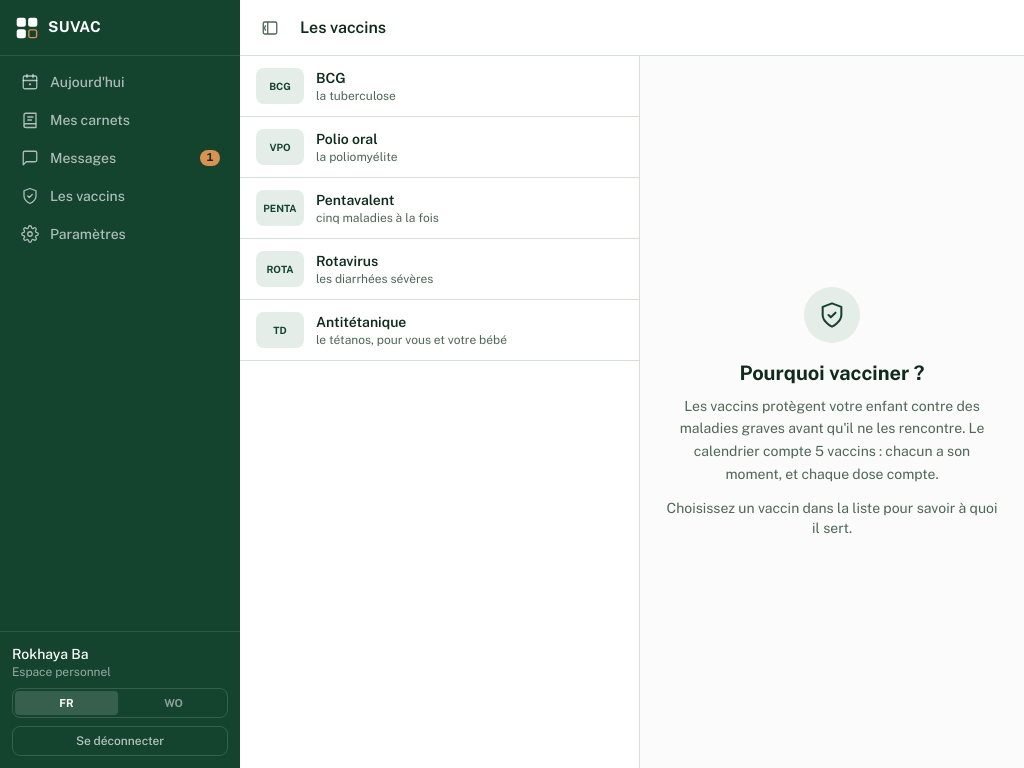
Test case: Vaccins › ouvre la fiche au clic
Click the text "Pentavalent".
click(355, 200)  # box [316, 192, 394, 208]
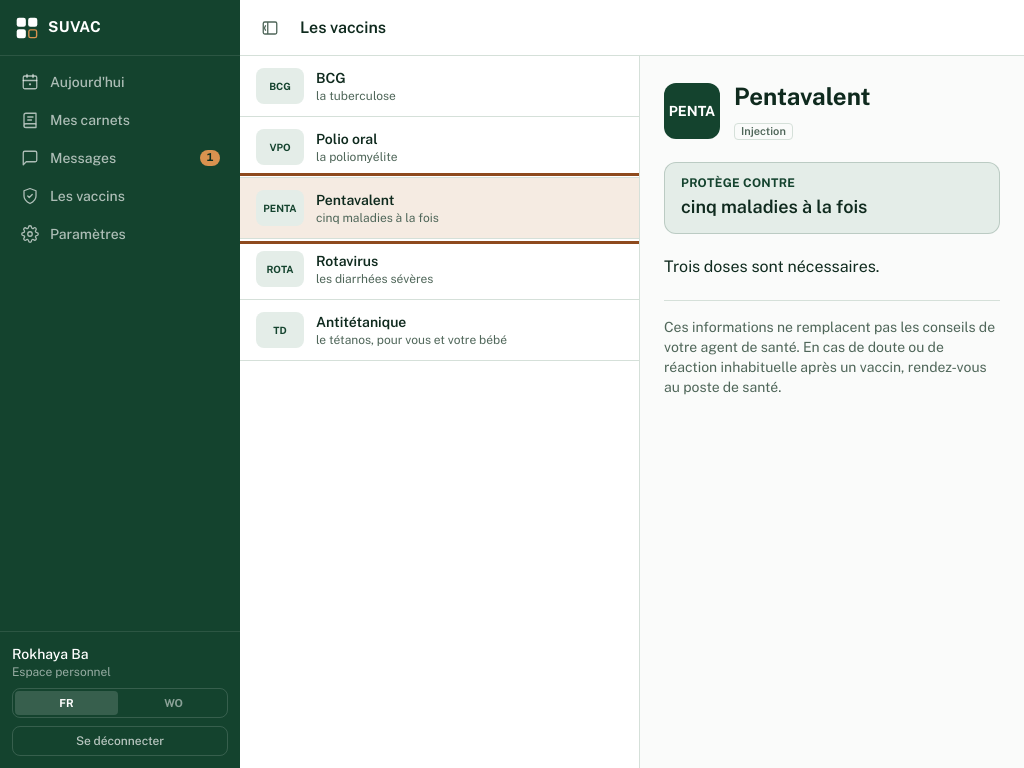
Result: the heading "Pentavalent" is shown at [734, 80, 870, 112]
Result: the text "Trois doses sont nécessaires." is shown at [664, 257, 879, 276]
